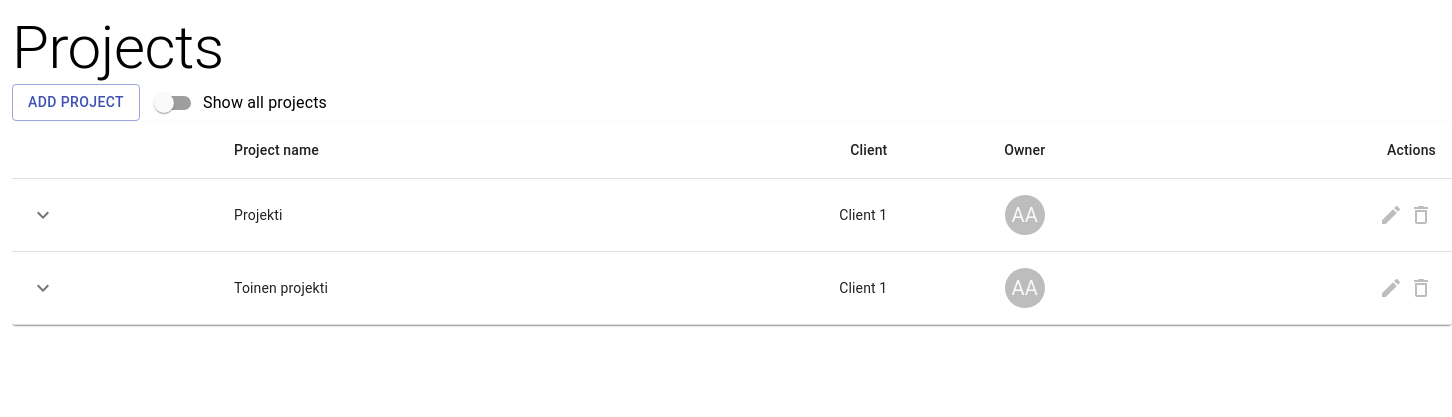
Test: <ProjectsView> with manager user › should be possible to view all projects
Click the text "Show all projects". click: point(265, 103)
box: 203,91 -> 327,115
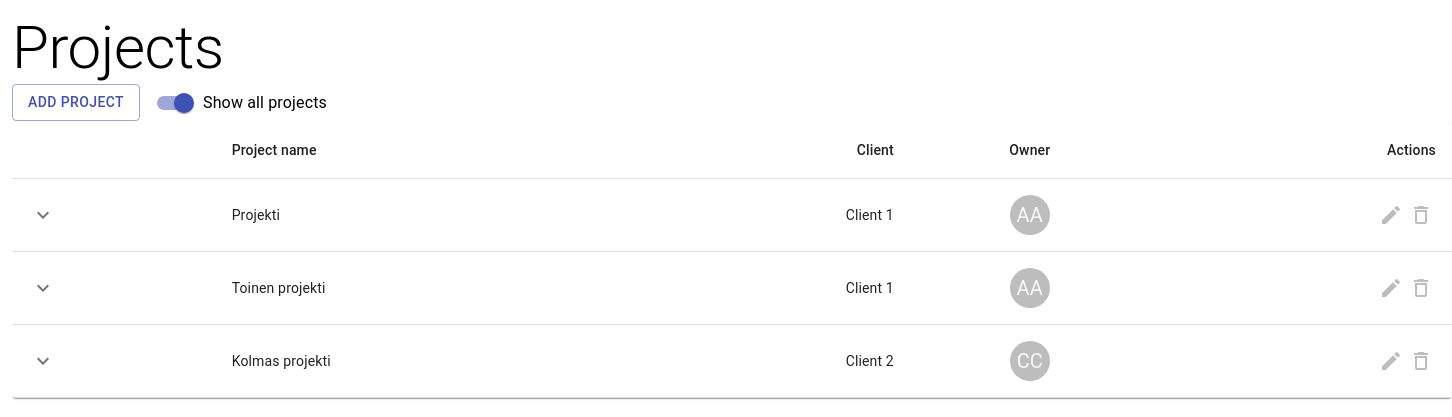
Expected: the text "Projekti" is shown, 216,178 -> 646,251
Expected: the text "Kolmas projekti" is shown, 216,324 -> 646,397
